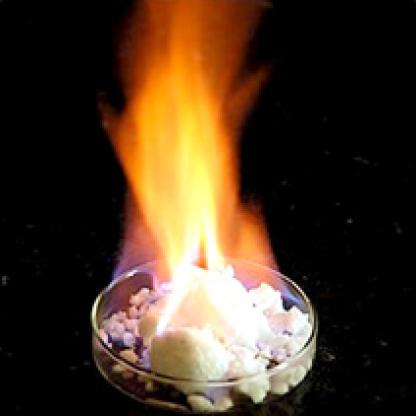fire: (94, 3, 305, 352)
